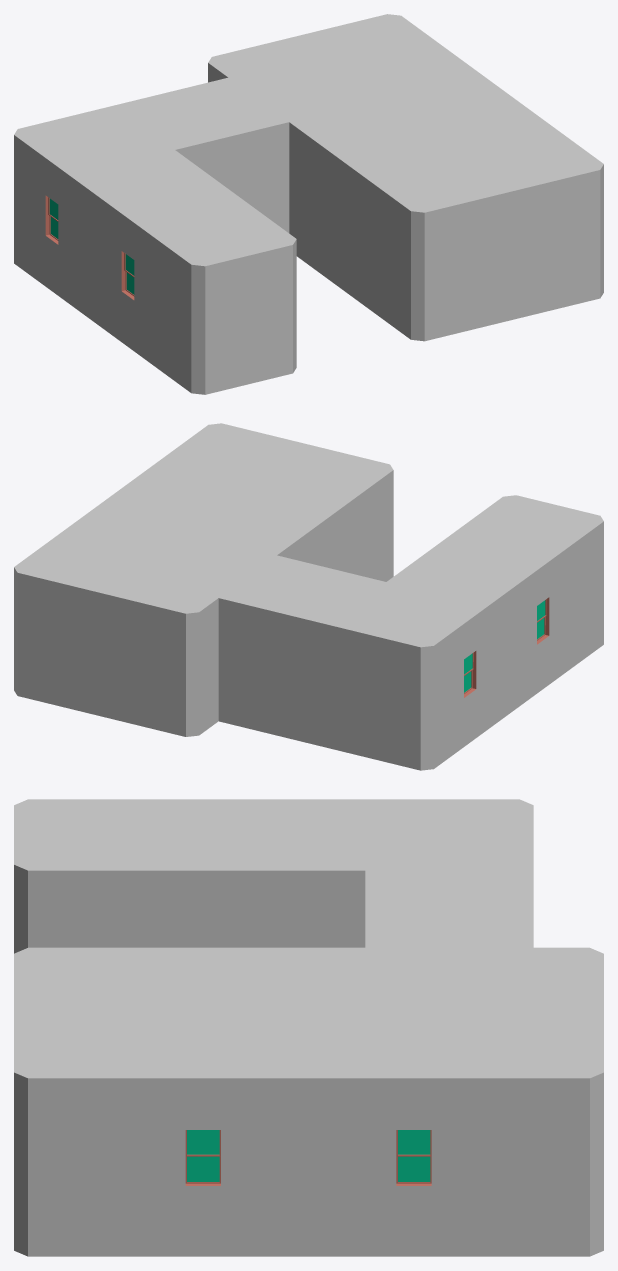
The model's file is House 2.fbx.
3 views of the same model, one above another, from view 1: azimuth 30°, elevation 25°; view 2: azimuth 150°, elevation 25°; view 3: azimuth 270°, elevation 25° (orthographic). The views are drawn at different scales.
Parts seen in each view (by area): view 1: Bedroom, Glass; view 2: Bedroom, Glass; view 3: Bedroom, Glass.
Part boxes in pixels (x1,y1,x2,y2): Bedroom: (14, 14, 603, 394); Glass: (49, 198, 134, 294); Bedroom: (14, 423, 603, 770); Glass: (464, 600, 545, 692); Bedroom: (14, 799, 603, 1256); Glass: (187, 1130, 430, 1181).
Bounding box in the file's own units: 1128 × 336 × 1008.
